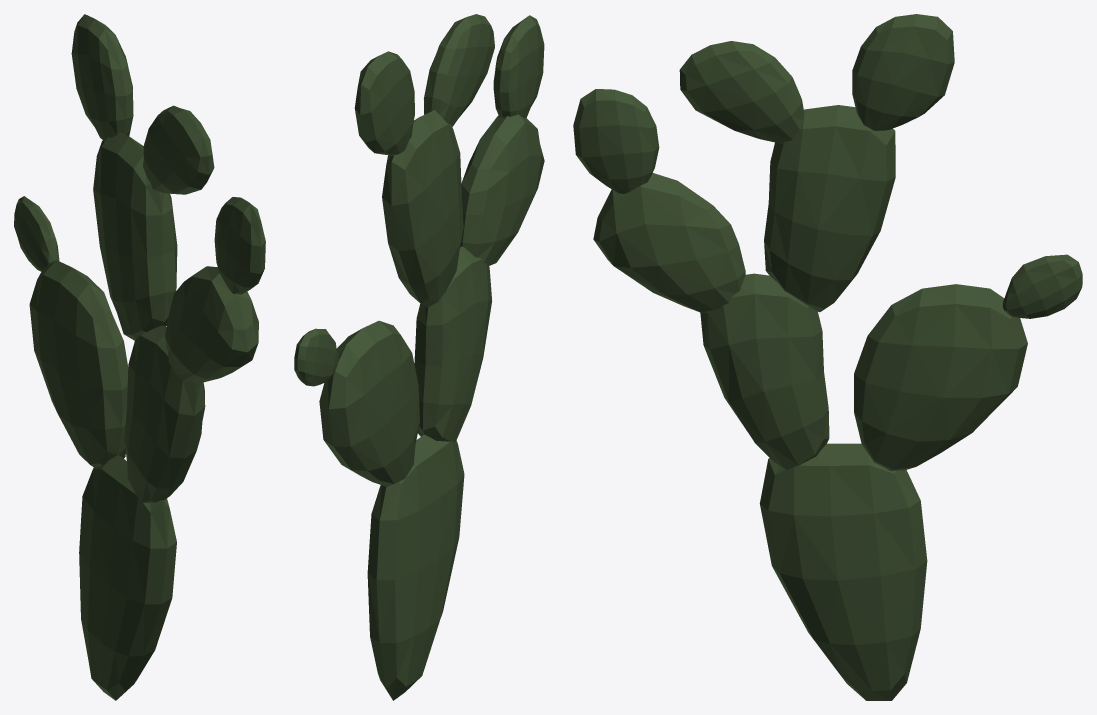
File: cactus-3.glb
The picture shows the model from 3 angles, left to right: view 1: azimuth 30°, elevation 25°; view 2: azimuth 150°, elevation 25°; view 3: azimuth 270°, elevation 25°; orthographic projection. The views are drawn at different scales.
Size of the model in its own units: 0.11 by 1.37 by 0.919.
